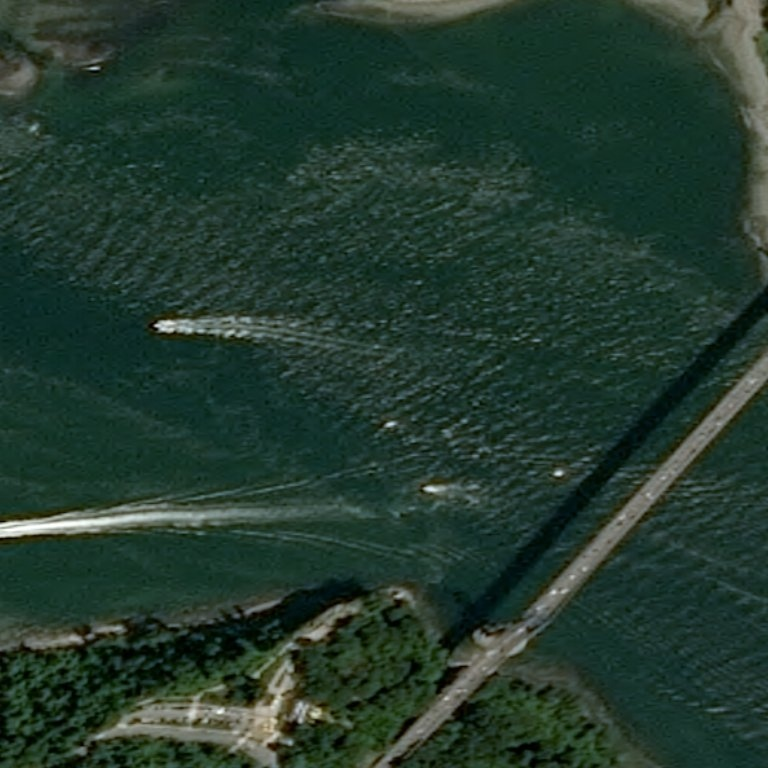ship: (150, 316, 164, 331), (419, 482, 435, 495)
